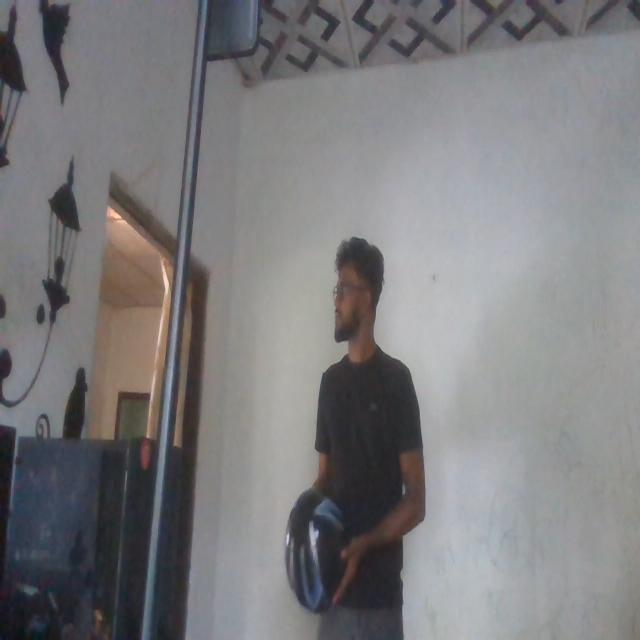Person: (286, 218, 414, 640)
